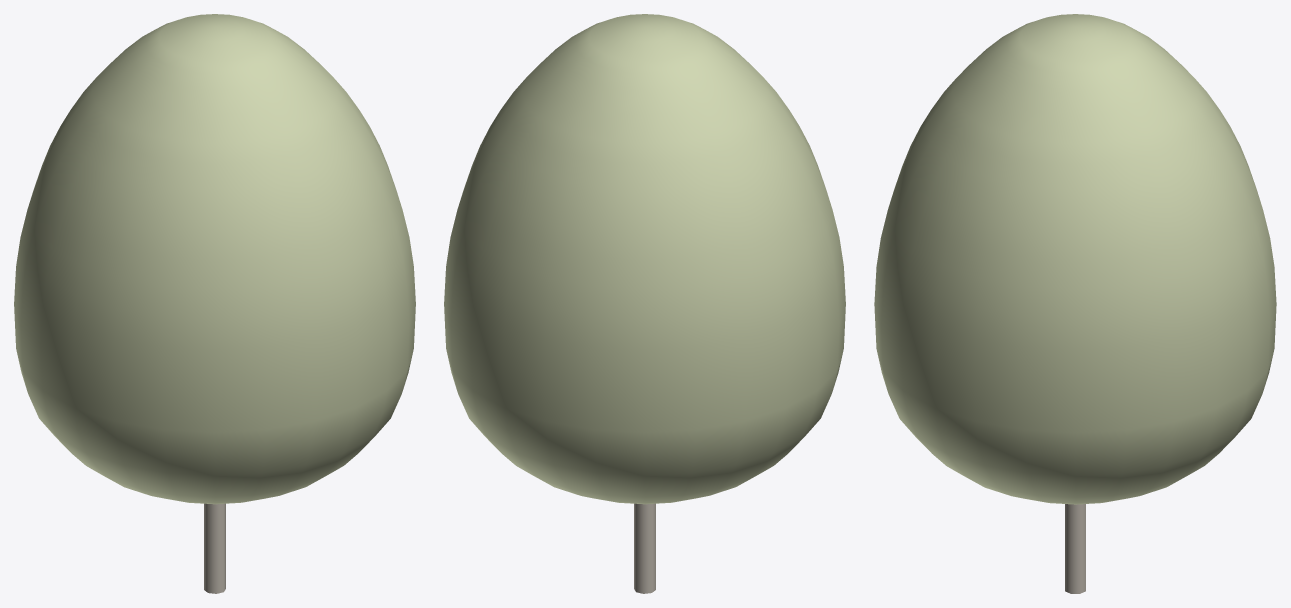
File: SorbusAria.glb
3 views of the same model, side by side, from view 1: azimuth 30°, elevation 25°; view 2: azimuth 150°, elevation 25°; view 3: azimuth 270°, elevation 25° (orthographic).
Parts seen in each view (by area): view 1: Common_Whitebeam__Schematic_LOD3; view 2: Common_Whitebeam__Schematic_LOD3; view 3: Common_Whitebeam__Schematic_LOD3.
Part boxes in pixels (left/top/right/bottom): Common_Whitebeam__Schematic_LOD3: left=14, top=14, right=415, bottom=593; Common_Whitebeam__Schematic_LOD3: left=444, top=14, right=845, bottom=593; Common_Whitebeam__Schematic_LOD3: left=874, top=14, right=1276, bottom=593.
Size of the model in its own units: 5.74 by 8.86 by 5.74.
